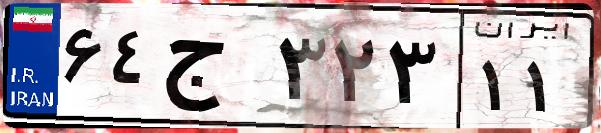1: (475, 38, 525, 113), (525, 38, 570, 115)
2: (330, 28, 385, 110)
3: (270, 28, 330, 110), (385, 28, 445, 110)
4: (110, 28, 158, 98)
6: (57, 26, 110, 100)
ج: (158, 20, 270, 120)
